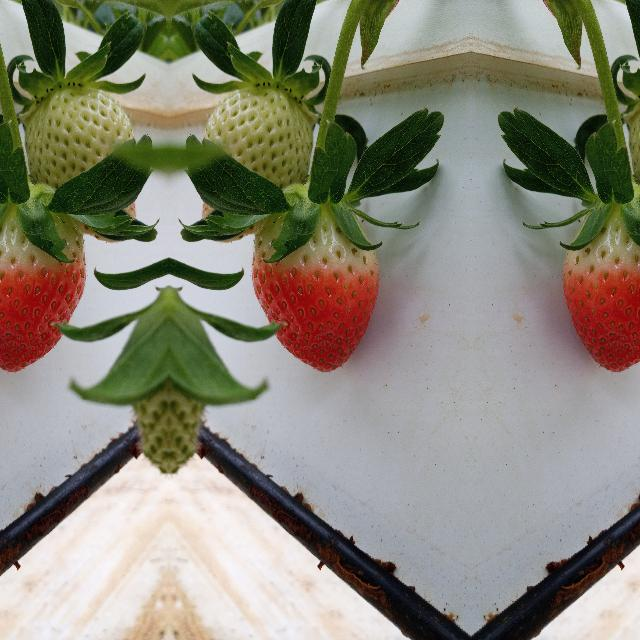Health_25: (196, 63, 310, 229), (26, 63, 140, 229)
Health_75: (250, 204, 380, 373), (0, 204, 86, 373), (560, 204, 640, 373)
